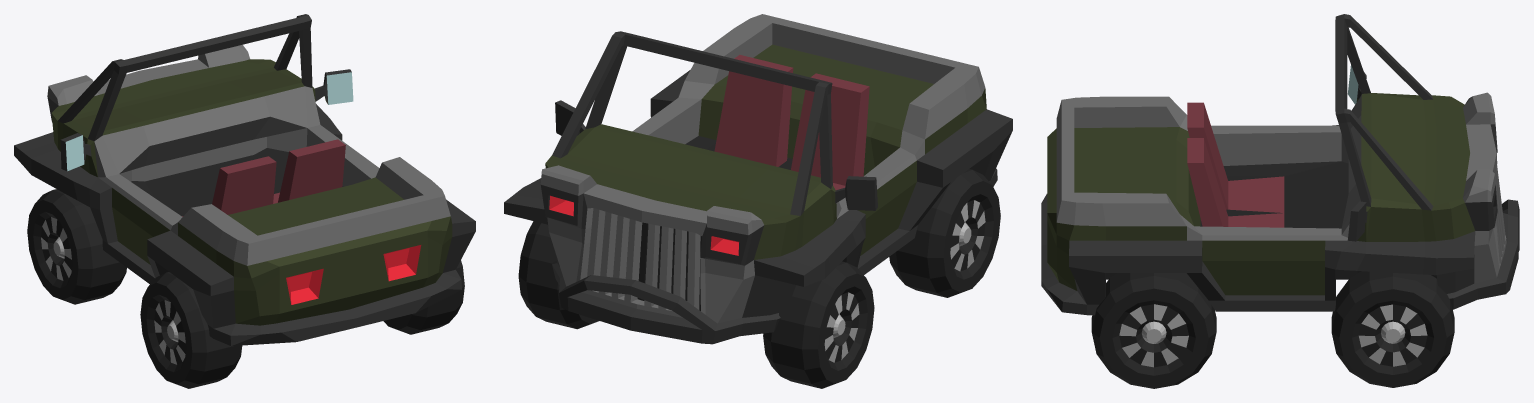
File: AI Racer (Green).fbx
3 renders of one model, left to right at view 1: azimuth 30°, elevation 25°; view 2: azimuth 150°, elevation 25°; view 3: azimuth 270°, elevation 25°, orthographic. The views are drawn at different scales.
Parts seen in each view (by area): view 1: Car, Front Right, Back Right, Back Left; view 2: Car, Front Right, Back Right, Front Left; view 3: Car, Front Left, Back Left.
Part boxes in pixels (x1,y1,x2,y2): Car: [14, 14, 475, 346]; Front Right: [27, 189, 126, 304]; Back Right: [140, 272, 242, 388]; Back Left: [383, 260, 464, 334]; Car: [504, 14, 1012, 344]; Front Right: [763, 261, 874, 388]; Back Right: [889, 169, 1000, 297]; Front Left: [518, 221, 598, 329]; Car: [1041, 14, 1519, 315]; Front Left: [1331, 271, 1454, 387]; Back Left: [1091, 273, 1216, 388].
Bounding box in the file's own units: 255 × 210 × 348.
